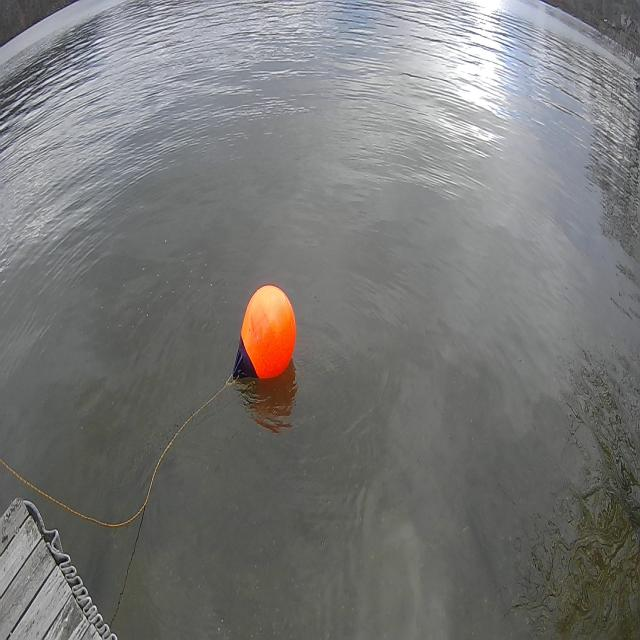Buoy: (238, 280, 298, 384)
